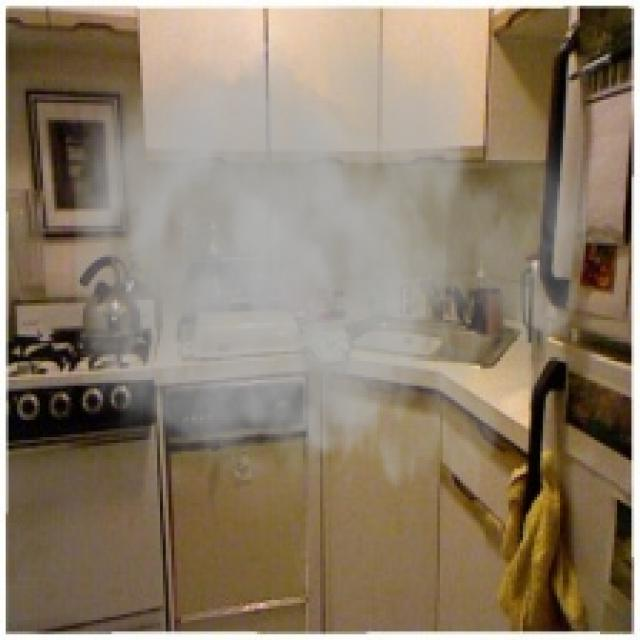smoke: (43, 6, 586, 551)
